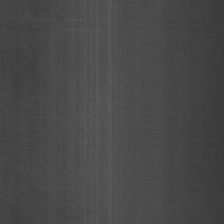waist_folding: (50, 10, 127, 196)
